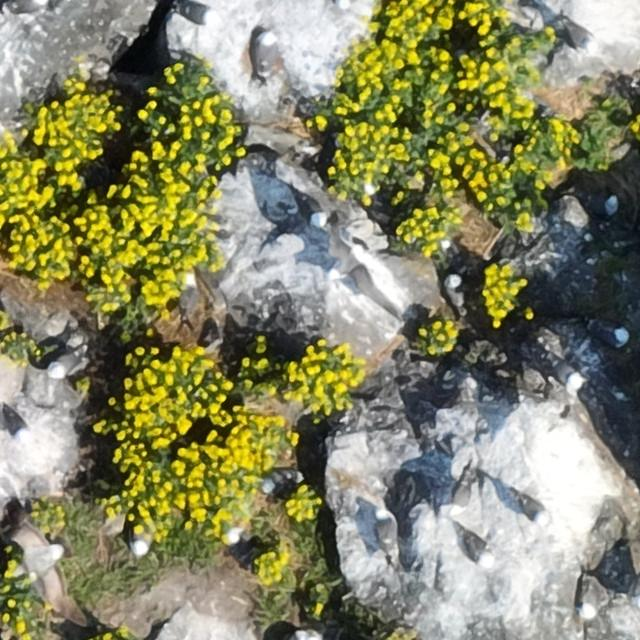F: (11, 516, 82, 624), (325, 224, 400, 314)
umineko: (545, 348, 584, 391), (295, 189, 332, 232), (446, 468, 474, 520), (579, 569, 608, 619), (4, 406, 37, 448), (179, 274, 200, 325), (442, 274, 469, 312), (225, 510, 252, 547), (562, 23, 594, 51), (256, 32, 276, 74), (48, 354, 82, 378), (375, 510, 396, 548), (516, 496, 545, 523), (462, 533, 489, 562), (592, 325, 629, 346), (264, 470, 299, 490), (181, 4, 212, 23), (599, 194, 621, 218), (10, 0, 46, 12), (130, 532, 148, 556)
